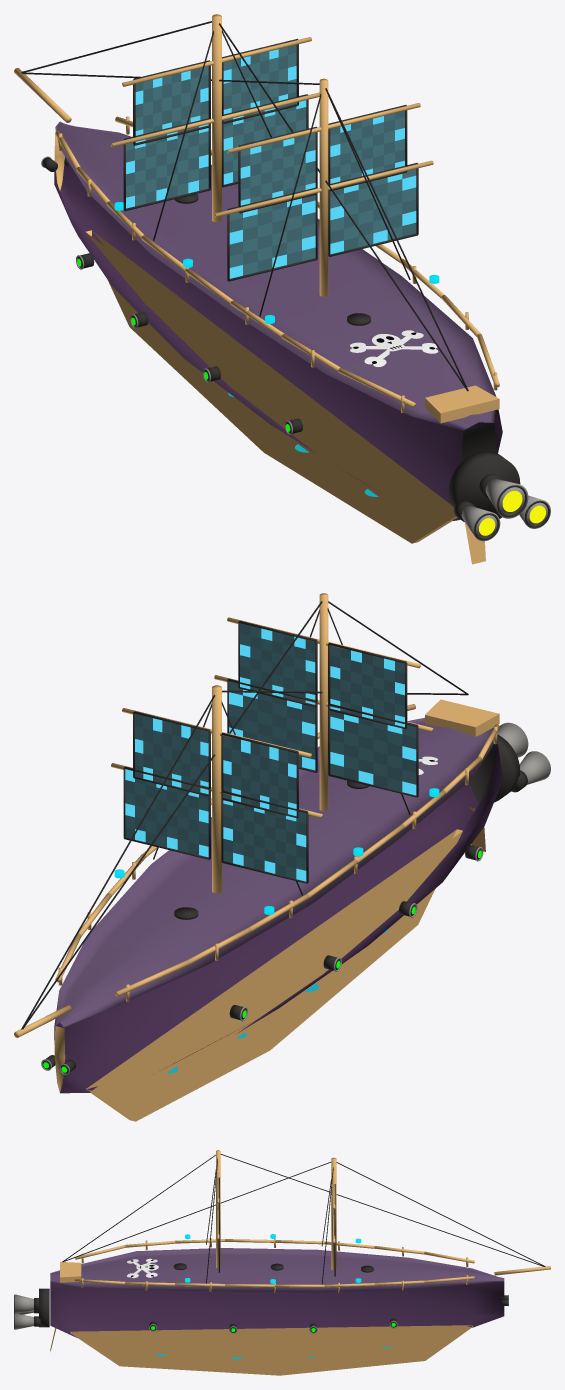
File: Ship_Pirate_8.glb
3 views of the same model, one above another, from view 1: azimuth 30°, elevation 25°; view 2: azimuth 150°, elevation 25°; view 3: azimuth 270°, elevation 25° (orthographic). The views are drawn at different scales.
Visible parts, largest first — view 1: Hull_MetalSailingShipBody, Keel_DeepSpaceSailingKeel, SolarPanelSail_Main_01_RigidHeritageArray, SolarPanelSail_Main_02_RigidHeritageArray, SolarPanelSail_Fore_01_RigidHeritageArray, SolarPanelSail_Fore_02_RigidHeritageArray, EngineDeck_AftTransomArmoredMount, Mast_Main_DarkMetalHeritageSpar, Mast_Fore_DarkMetalHeritageSpar, SternTransom_LowReinforcedAftDeckCap, Yard_Main_01_SolarPanelCrossSpar, Yard_Fore_01_SolarPanelCrossSpar (+7 smaller); view 2: Hull_MetalSailingShipBody, Keel_DeepSpaceSailingKeel, SolarPanelSail_Fore_01_RigidHeritageArray, SolarPanelSail_Main_01_RigidHeritageArray, SolarPanelSail_Main_02_RigidHeritageArray, SolarPanelSail_Fore_02_RigidHeritageArray, Mast_Fore_DarkMetalHeritageSpar, Mast_Main_DarkMetalHeritageSpar, SternTransom_LowReinforcedAftDeckCap, RiggingStay_Main_ForwardTautLine, EngineDeck_AftTransomArmoredMount, RiggingStay_Fore_ForwardTautLine (+2 smaller); view 3: Hull_MetalSailingShipBody, Keel_DeepSpaceSailingKeel, Mast_Fore_DarkMetalHeritageSpar, RiggingStay_Main_ForwardTautLine, SternTransom_LowReinforcedAftDeckCap, EngineDeck_AftTransomArmoredMount, RiggingStay_Fore_ForwardTautLine, RiggingStay_Fore_AftTautLine, Mast_Main_DarkMetalHeritageSpar, EngineBell_CenterUpper_IronRocketNozzle.
Boxes of the visible parts, x1,y1,x2,y2 form: Hull_MetalSailingShipBody: (54, 121, 502, 520); Keel_DeepSpaceSailingKeel: (85, 230, 457, 543); SolarPanelSail_Main_01_RigidHeritageArray: (229, 169, 416, 278); SolarPanelSail_Main_02_RigidHeritageArray: (240, 111, 404, 205); SolarPanelSail_Fore_01_RigidHeritageArray: (126, 100, 306, 208); SolarPanelSail_Fore_02_RigidHeritageArray: (135, 45, 296, 135); EngineDeck_AftTransomArmoredMount: (448, 451, 520, 518); Mast_Main_DarkMetalHeritageSpar: (319, 78, 328, 296); Mast_Fore_DarkMetalHeritageSpar: (212, 14, 221, 222); SternTransom_LowReinforcedAftDeckCap: (425, 385, 499, 423); Yard_Main_01_SolarPanelCrossSpar: (214, 160, 433, 217); Yard_Fore_01_SolarPanelCrossSpar: (111, 92, 319, 147); Hull_MetalSailingShipBody: (54, 717, 502, 1093); Keel_DeepSpaceSailingKeel: (85, 829, 462, 1121); SolarPanelSail_Fore_01_RigidHeritageArray: (125, 769, 306, 881); SolarPanelSail_Main_01_RigidHeritageArray: (229, 681, 416, 795); SolarPanelSail_Main_02_RigidHeritageArray: (240, 623, 404, 727); SolarPanelSail_Fore_02_RigidHeritageArray: (135, 714, 296, 816); Mast_Fore_DarkMetalHeritageSpar: (212, 685, 221, 893); Mast_Main_DarkMetalHeritageSpar: (319, 593, 328, 811); SternTransom_LowReinforcedAftDeckCap: (425, 699, 499, 736); RiggingStay_Main_ForwardTautLine: (23, 601, 322, 1028); EngineDeck_AftTransomArmoredMount: (494, 734, 520, 802); RiggingStay_Fore_ForwardTautLine: (21, 695, 215, 1029); Hull_MetalSailingShipBody: (50, 1248, 504, 1338); Keel_DeepSpaceSailingKeel: (70, 1325, 472, 1375); Mast_Fore_DarkMetalHeritageSpar: (331, 1157, 336, 1270); RiggingStay_Main_ForwardTautLine: (220, 1154, 544, 1266); SternTransom_LowReinforcedAftDeckCap: (60, 1261, 81, 1282); EngineDeck_AftTransomArmoredMount: (39, 1288, 49, 1327); RiggingStay_Fore_ForwardTautLine: (336, 1162, 545, 1266); RiggingStay_Fore_AftTautLine: (62, 1162, 331, 1262); Mast_Main_DarkMetalHeritageSpar: (216, 1150, 220, 1268); EngineBell_CenterUpper_IronRocketNozzle: (14, 1294, 33, 1313).
Bounding box in the file's own units: 1.86 × 3.38 × 7.37.
